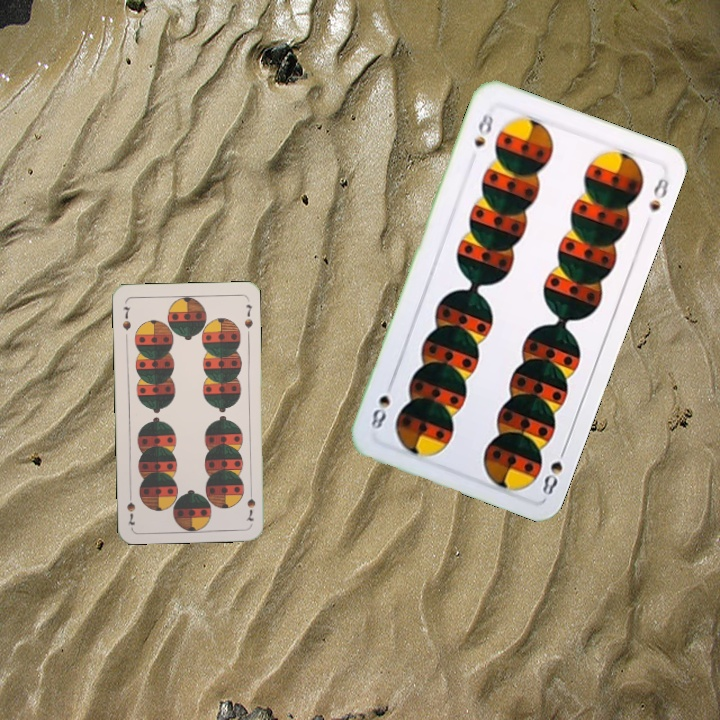S7: (242, 485, 258, 524), (118, 302, 133, 333)
S8: (538, 441, 570, 498), (470, 104, 498, 150)
